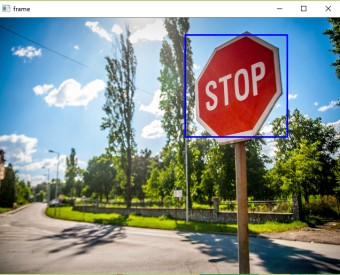SS: (185, 33, 289, 142)
